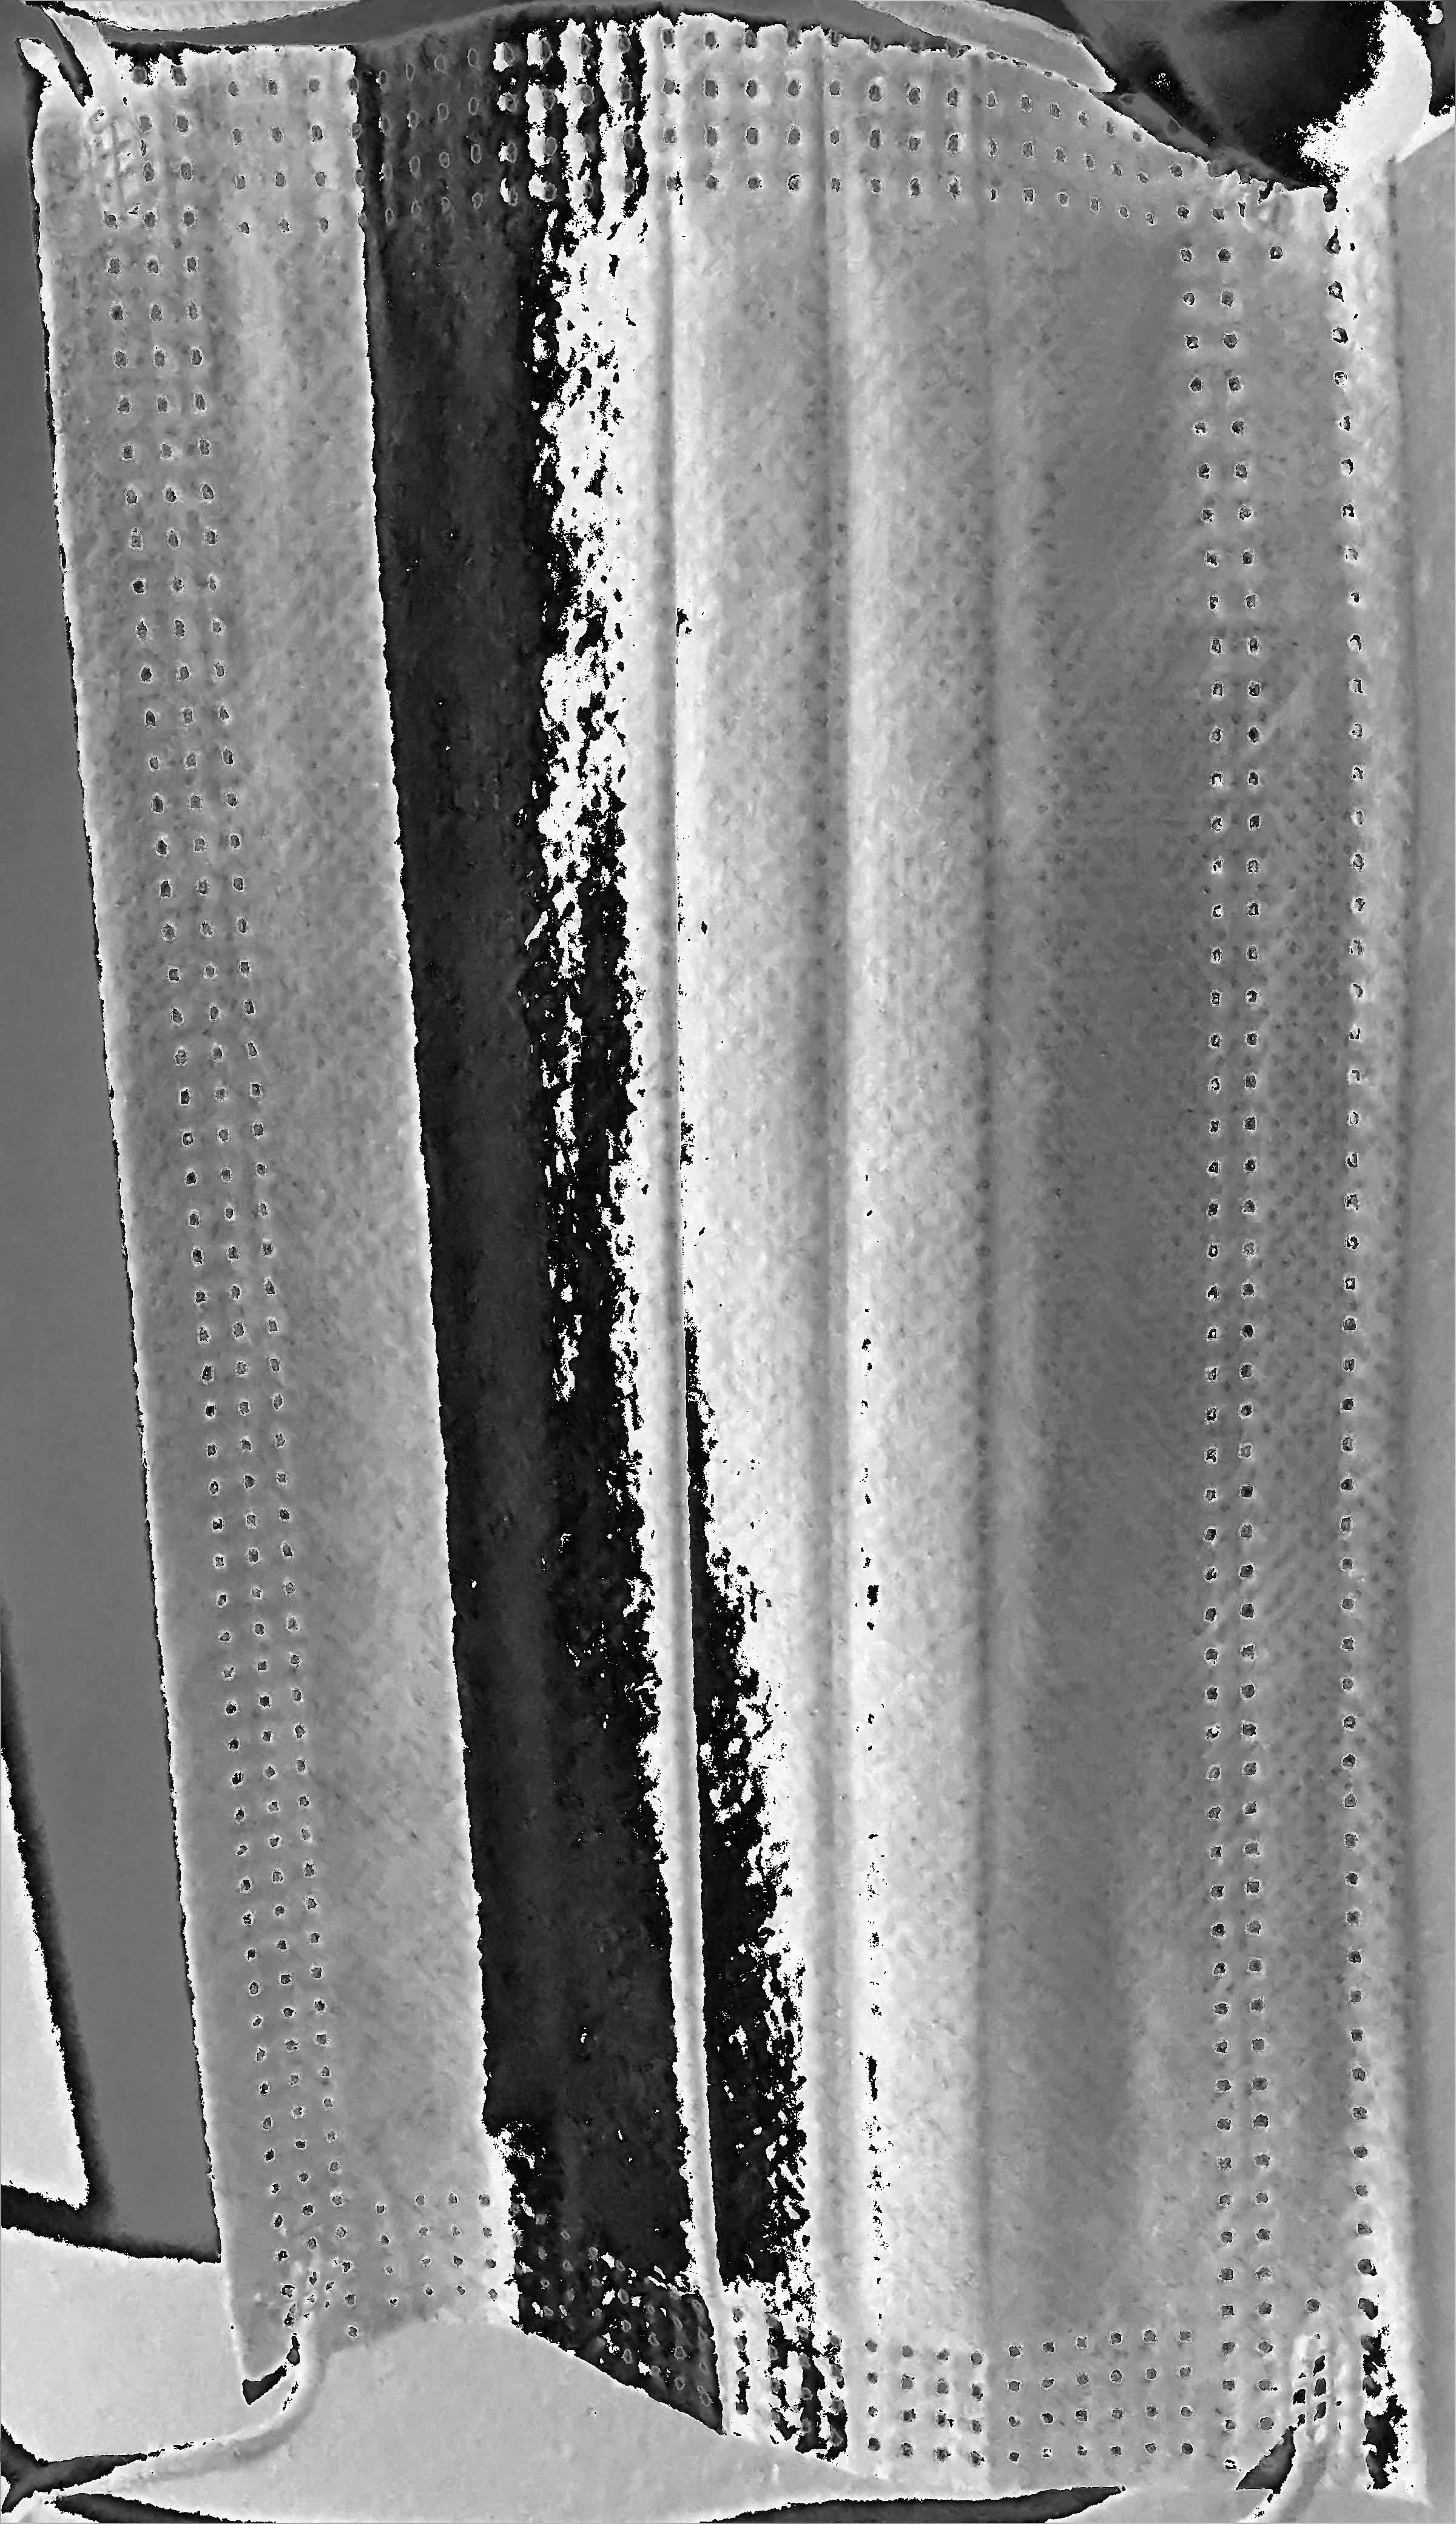Low GSM: (354, 232, 1156, 2193)
Undefined Area: (861, 3, 1456, 196)
